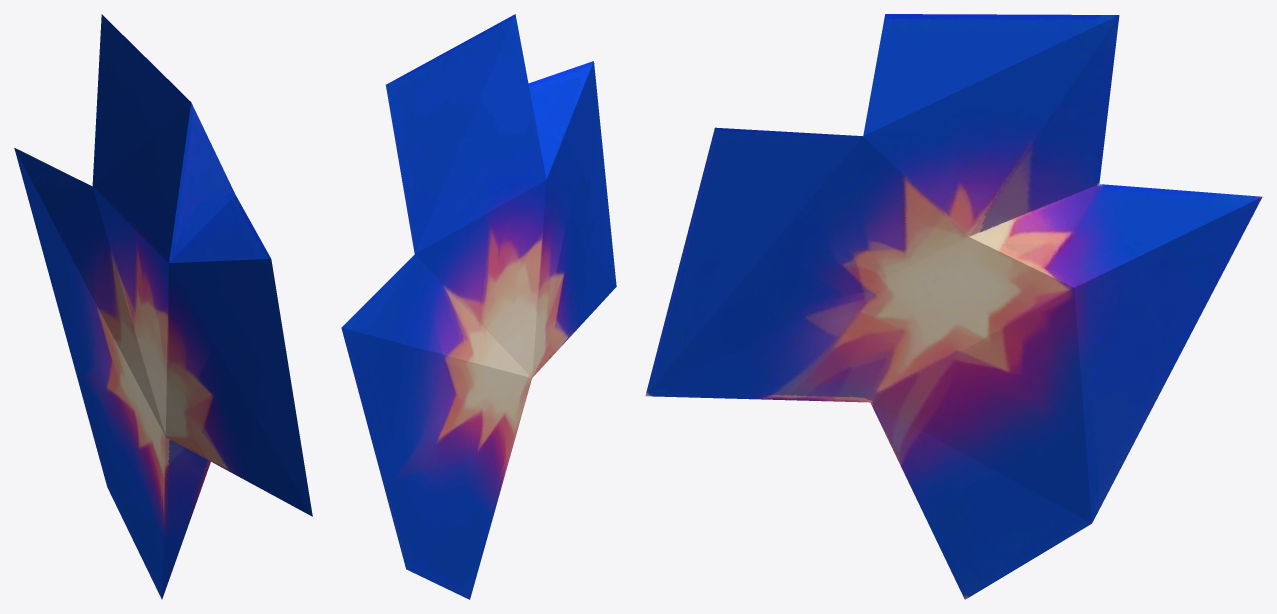
The model's file is magic_projectile.glb.
3 views of the same model, side by side, from view 1: azimuth 30°, elevation 25°; view 2: azimuth 150°, elevation 25°; view 3: azimuth 270°, elevation 25° (orthographic). The views are drawn at different scales.
Size of the model in its own units: 0.2223 by 1.76 by 1.67.
1 material, 1 textured.
